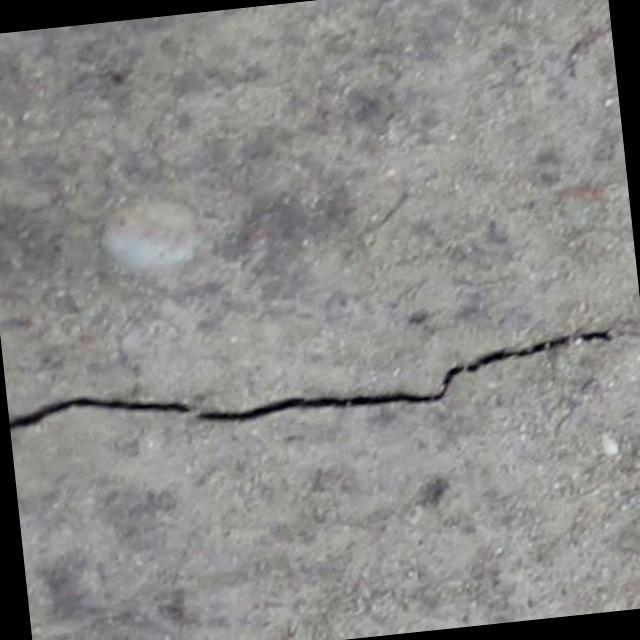crack: (5, 321, 640, 450)
